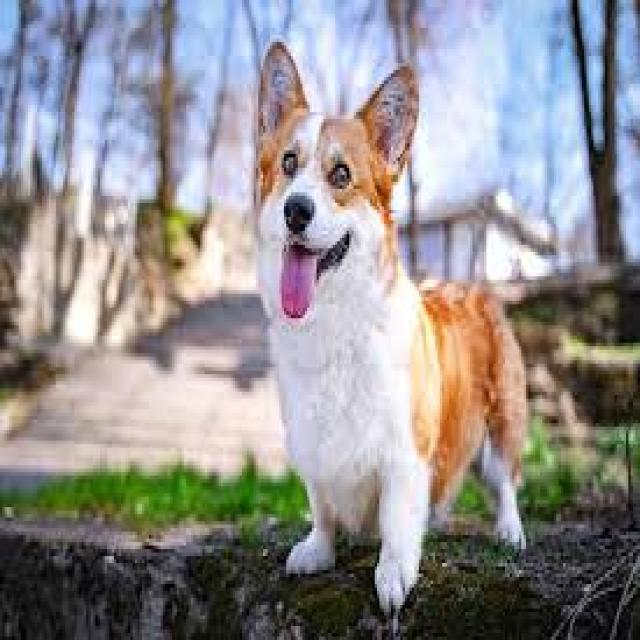CORGI: (248, 32, 547, 594)
